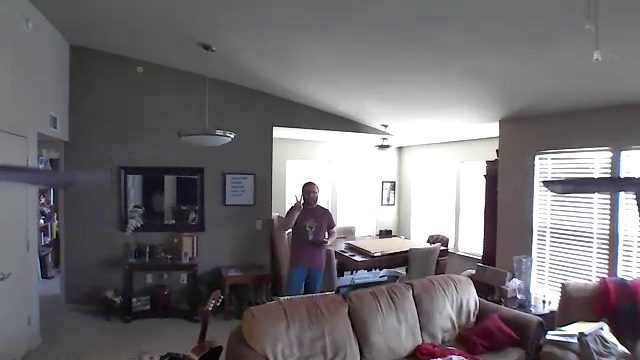peace: (291, 191, 305, 212)
